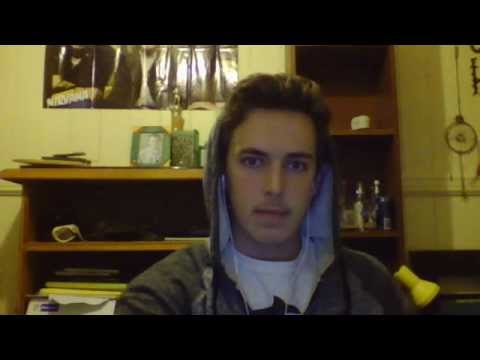eye: (238, 151, 266, 169), (283, 156, 309, 173)
